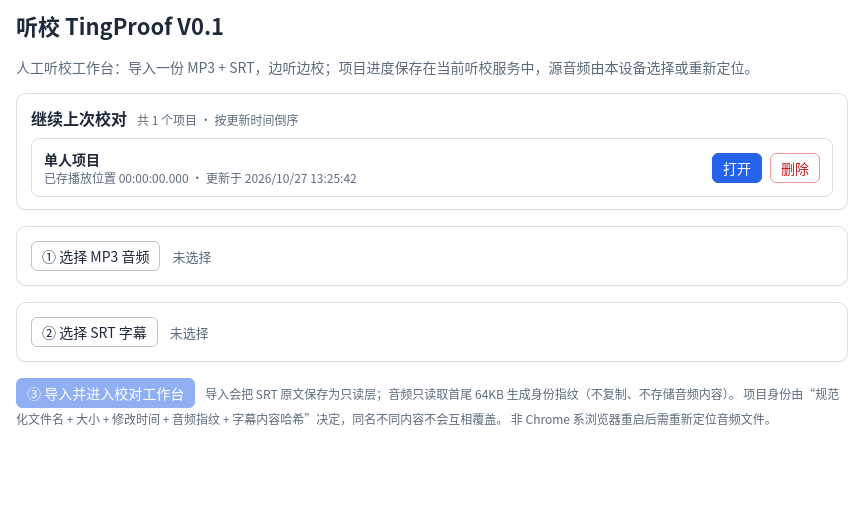
ImportScreen 删除历史记录（AC-066） › 最后一项删除后显示“暂无最近项目。”空状态
Click the button with aria-label "删除 单人项目" at (795, 168), box [770,152,820,182]
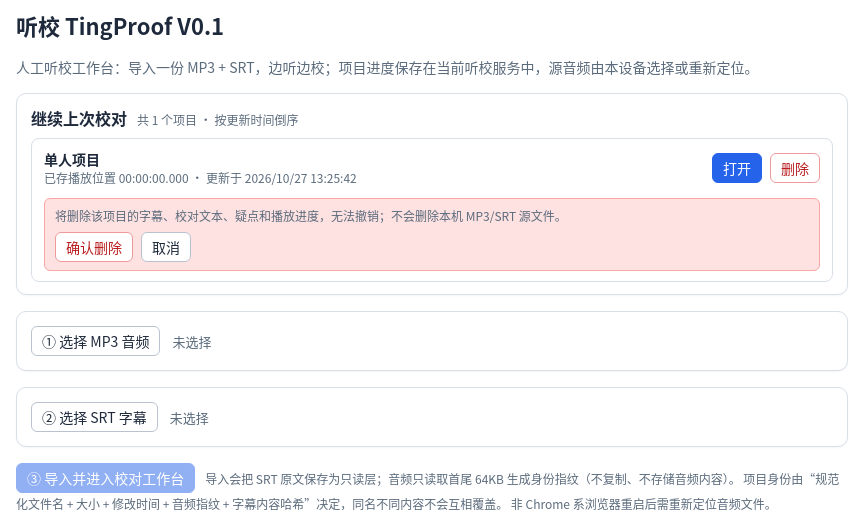
Click the button with aria-label "确认删除 单人项目" at (94, 247), box [55,232,133,262]
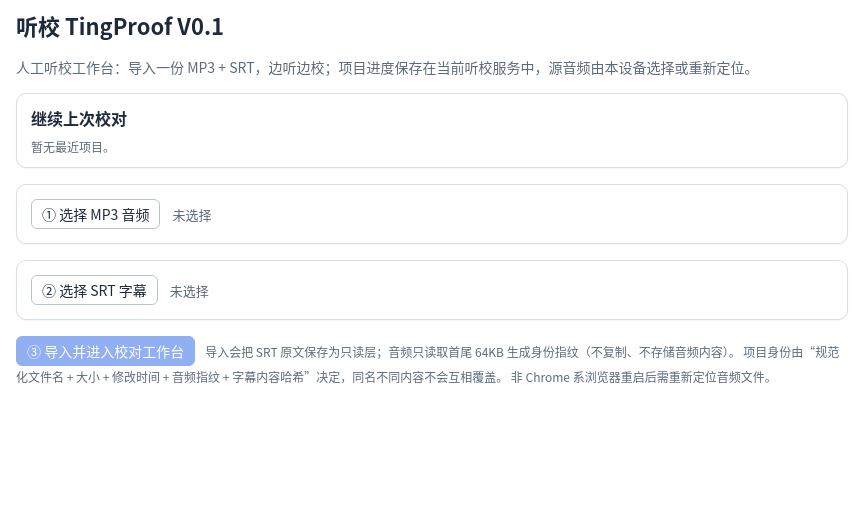
Expected: the text "暂无最近项目。" is shown, [31,138,115,155]
